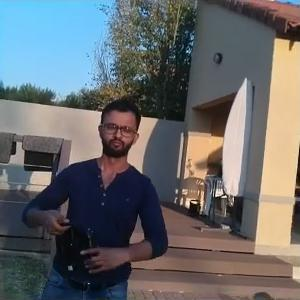follow: (16, 94, 172, 298)
